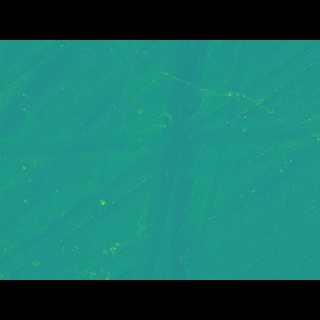Loch: (132, 69, 206, 250), (0, 128, 320, 162)
